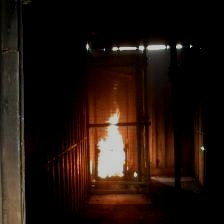fire: (94, 111, 132, 181)
